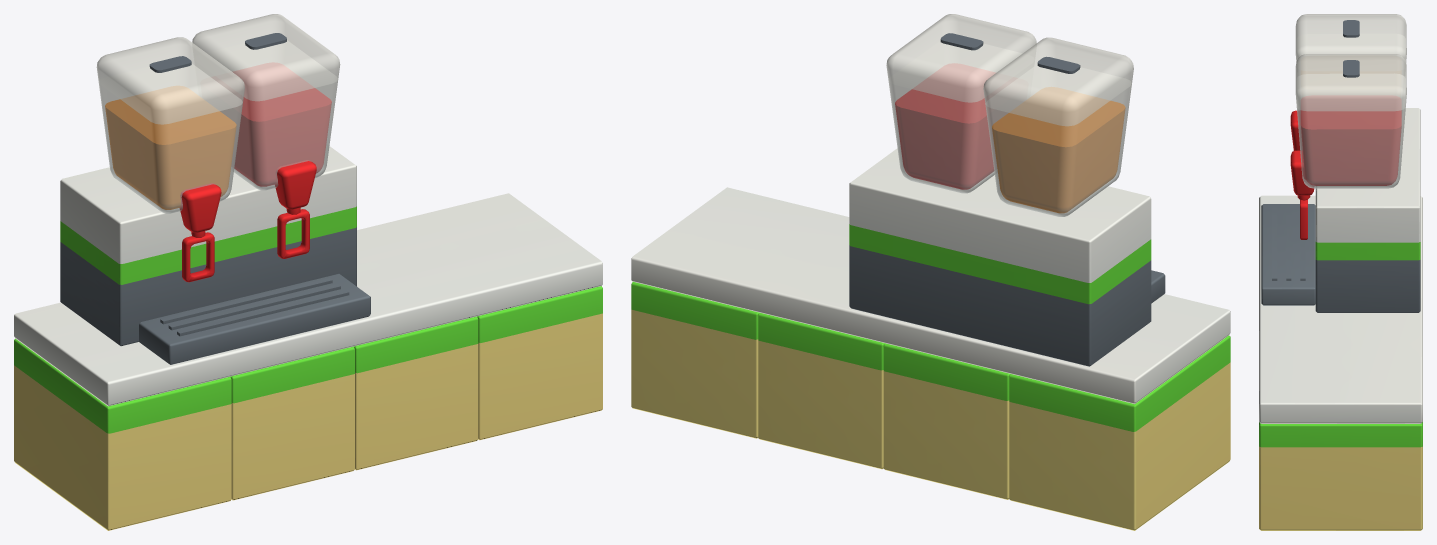
Rendered from Table_Juice.fbx.
The picture shows the model from 3 angles, left to right: view 1: azimuth 30°, elevation 25°; view 2: azimuth 150°, elevation 25°; view 3: azimuth 270°, elevation 25°; orthographic projection. The views are drawn at different scales.
Parts seen in each view (by area): view 1: Table_Juice; view 2: Table_Juice; view 3: Table_Juice.
Boxes of the visible parts, left/top/right/bottom form: Table_Juice: left=14, top=14, right=602, bottom=530; Table_Juice: left=631, top=14, right=1230, bottom=530; Table_Juice: left=1259, top=14, right=1422, bottom=530.
Size of the model in its own units: 300 by 232 by 100.
